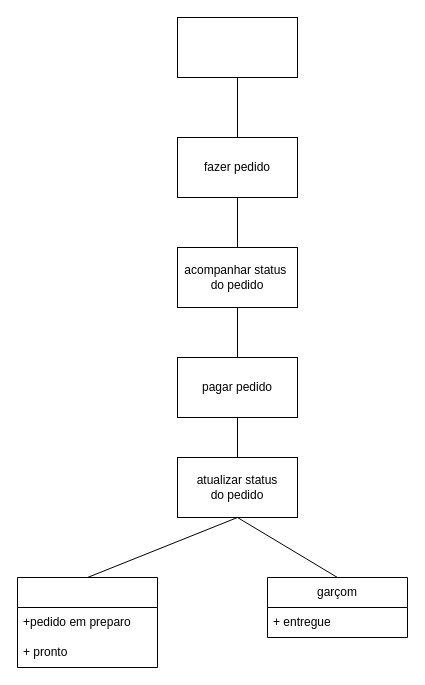
The diagram is 425 pixels wide and 685 high, and some of its shapes have lost their labels. The shapes that lost their labels are listed below. From the top down, each one's box as (x1, y1, x2, y2) in pixels, then its label:
(176, 16, 298, 78): cliente
(16, 576, 158, 668): cozinheiro
